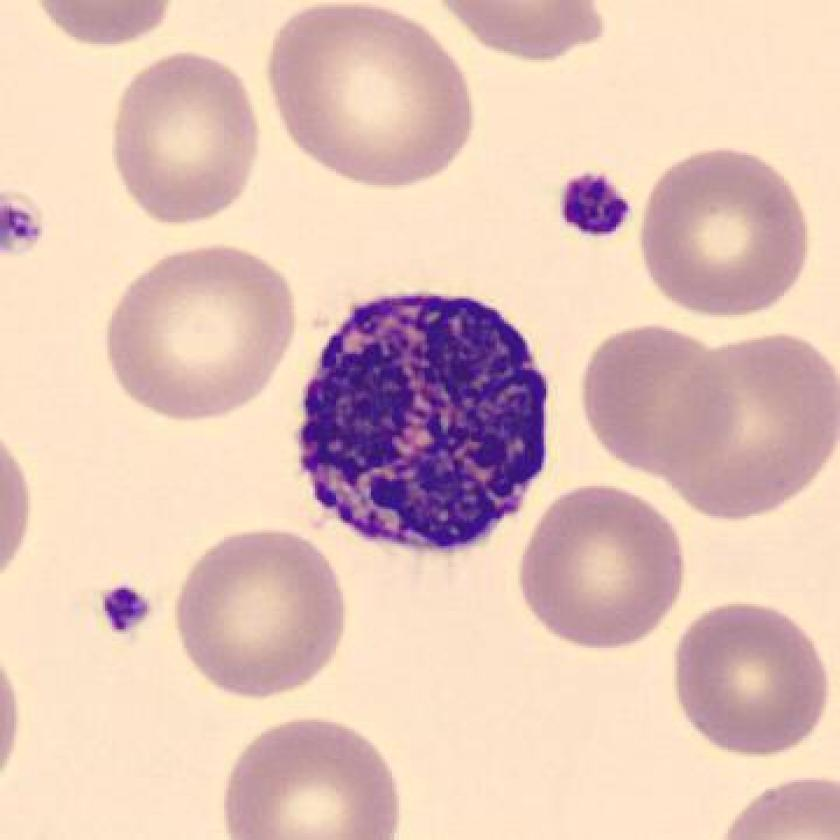basophil: (293, 286, 549, 554)
